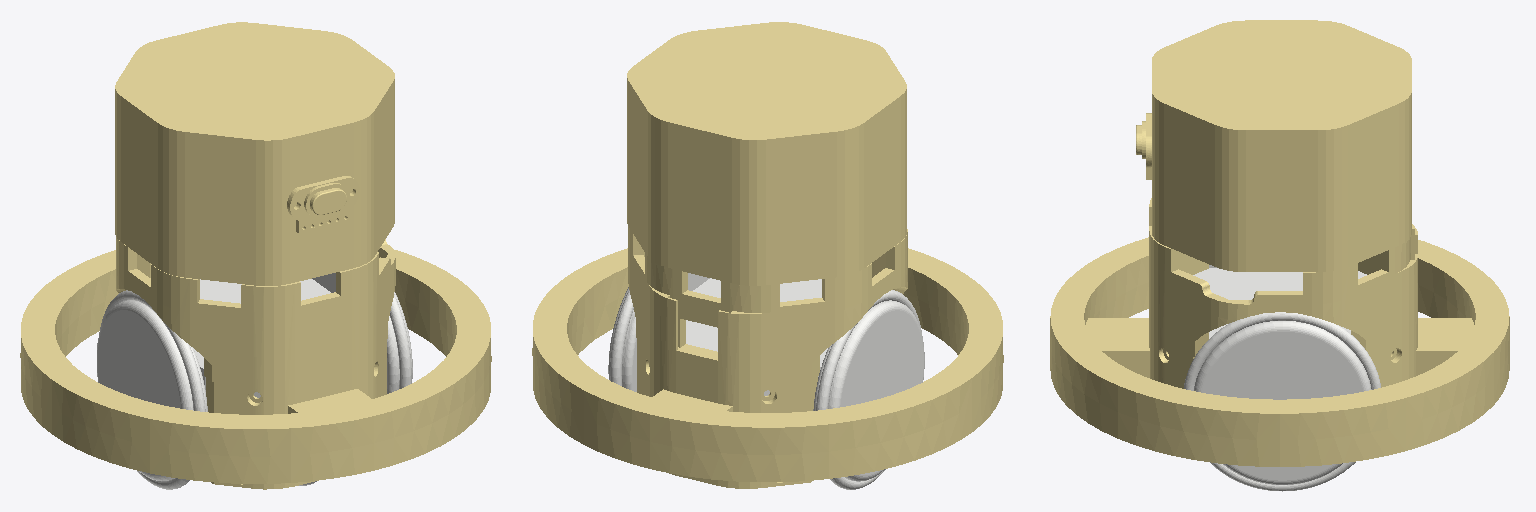
robot.urdf — hero_plus:
<?xml version='1.0' encoding='utf-8'?>
<robot name="hero_plus" version="1.0">
  <joint name="body_link_joint" type="fixed">
    <origin rpy="1.57080 0.00000 0.00000" xyz="0.0001547 -0.0251026 0.0560773" />
    <parent link="base_link" />
    <child link="body_link" />
  </joint>
  <joint name="left_wheel_link_joint" type="continuous">
    <limit effort="0.00000" velocity="0.00000" />
    <origin rpy="0.00000 0.00000 0.00000" xyz="0.02953 0.0003468 0.0141234" />
    <parent link="base_link" />
    <child link="left_wheel_link" />
    <axis xyz="1.00000 0.00000 0.00000" />
  </joint>
  <joint name="right_wheel_link_joint" type="continuous">
    <limit effort="0.00000" velocity="0.00000" />
    <origin rpy="0.00000 0.00000 0.00000" xyz="-0.029401 0.0003468 0.0141633" />
    <parent link="base_link" />
    <child link="right_wheel_link" />
    <axis xyz="1.00000 0.00000 0.00000" />
  </joint>
  <link name="base_link">
    <collision name="base_collision">
      <origin rpy="0.00000 0.00000 0.00000" xyz="-0.0001103 0.0232716 -0.0031983" />
      <geometry>
        <sphere radius="0.0079613" />
      </geometry>
      <surface><friction><ode mu="0.1" mu2="0.1"/></friction></surface>
    </collision>
    <collision name="base_collision.000">
      <origin rpy="0.00000 0.00000 0.00000" xyz="0.0002816 -0.0242143 -0.002371" />
      <geometry>
        <sphere radius="0.0090583" />
      </geometry>
      <surface><friction><ode mu="0.1" mu2="0.1"/></friction></surface>
    </collision>
    <inertial>
      <inertia ixx="8.5e-5" ixy="0" ixz="0" iyy="8.5e-5" iyz="0.00" izz="8.5e-5" />
      <origin rpy="0.00000 0.00000 0.00000" xyz="7.51e-05 -0.0001163 -0.0079272" />
      <mass value="0.200" />
    </inertial>
    <visual name="base">
      <material name="ABS (White)" />
      <origin rpy="0.00000 0.00000 0.00000" xyz="0 -0 0" />
      <geometry>
        <mesh filename="../meshes/dae/base_link.dae" scale="0.01 0.01 0.01" />
      </geometry>
    </visual>
  </link>
  <link name="body_link">
    <collision name="body_collision">
      <origin rpy="1.57080 0.00000 0.00000" xyz="-2.86e-05 -0.0111866 -0.0256706" />
      <geometry>
        <cylinder radius="0.0581853" length="0.0949234" />
      </geometry>
    </collision>
    <inertial>
      <inertia ixx="9.58e-4" ixy="0.00" ixz="0.0" iyy="9.58e-4" iyz="0.0" izz="1.02e-3" />
      <origin rpy="0.00000 0.00000 0.00000" xyz="-0.0001382 -0.0435666 -0.0252577" />
      <mass value="0.600" />
    </inertial>
    <visual name="body">
      <material name="Opaque(244,229,167)" />
      <origin rpy="0.00000 0.00000 0.00000" xyz="0 -0 0" />
      <geometry>
        <mesh filename="../meshes/dae/Body1.dae" scale="0.01 0.01 0.01" />
      </geometry>
    </visual>
  </link>
  <link name="left_wheel_link">
    <collision name="left_wheel_collision">
      <origin rpy="-0.00000 1.57080 0.00000" xyz="0.000109 -3.26e-05 -3.13e-05" />
      <geometry>
        <cylinder radius="0.0255042" length="0.0070011" />
      </geometry>
    </collision>
    <inertial>
      <inertia ixx="1.0e-5" ixy="0.00000" ixz="0.00000" iyy="1.95e-5" iyz="-0.00017" izz="1.0e-5" />
      <origin rpy="0.00000 0.00000 0.00000" xyz="2.18e-05 4.2e-06 8.9e-06" />
      <mass value="0.027100" />
    </inertial>
    <visual name="left_wheel">
      <material name="ABS (White)" />
      <origin rpy="0.00000 0.00000 0.00000" xyz="0 0 0" />
      <geometry>
        <mesh filename="../meshes/dae/left_wheel.dae" scale="0.01 0.01 0.01" />
      </geometry>
    </visual>
  </link>
  <link name="right_wheel_link">
    <collision name="right_wheel_collision">
      <origin rpy="0.00000 1.57080 0.00000" xyz="-0.0001091 -3.26e-05 3.14e-05" />
      <geometry>
        <cylinder radius="0.02549" length="0.0069973" />
      </geometry>
    </collision>
    <inertial>
      <inertia ixx="1.0e-5" ixy="0.00000" ixz="0.00000" iyy="1.95e-5" iyz="-0.00017" izz="1.0e-5" />
      <origin rpy="0.00000 0.00000 0.00000" xyz="-2.18e-05 4.2e-06 -8.9e-06" />
      <mass value="0.027100" />
    </inertial>
    <visual name="right_wheel">
      <material name="ABS (White)" />
      <origin rpy="0.00000 0.00000 0.00000" xyz="0 -0 0" />
      <geometry>
        <mesh filename="../meshes/dae/right_wheel.dae" scale="0.01 0.01 0.01" />
      </geometry>
    </visual>
  </link>
  <material name="ABS (White)">
    <color rgba="0.96471 0.96471 0.95294 1.00000" />
  </material>
  <material name="Opaque(244,229,167)">
    <color rgba="0.95686 0.89804 0.65490 1.00000" />
  </material>
</robot>

--- Render facts (derived) ---
The picture shows the robot from 3 angles, left to right: view 1: azimuth 30°, elevation 25°; view 2: azimuth 150°, elevation 25°; view 3: azimuth 270°, elevation 25°; orthographic projection.
Model hero_plus with 4 links and 3 joints (2 continuous, 1 fixed), rooted at base_link, posed all joints at 0.
Links seen in each view (by area): view 1: body_link, right_wheel_link, left_wheel_link, base_link; view 2: body_link, right_wheel_link, left_wheel_link, base_link; view 3: body_link, left_wheel_link, base_link.
Boxes of the visible links, left/top/right/bottom form: body_link: left=20, top=22, right=491, bottom=489; right_wheel_link: left=97, top=290, right=207, bottom=489; left_wheel_link: left=312, top=273, right=412, bottom=393; base_link: left=193, top=279, right=330, bottom=485; body_link: left=532, top=22, right=1003, bottom=488; right_wheel_link: left=813, top=290, right=924, bottom=489; left_wheel_link: left=608, top=273, right=709, bottom=391; base_link: left=686, top=278, right=827, bottom=395; body_link: left=1050, top=20, right=1509, bottom=466; left_wheel_link: left=1184, top=312, right=1380, bottom=491; base_link: left=1193, top=268, right=1366, bottom=338.
Size in the robot's own frame: 0.1172 by 0.1172 by 0.1033 metres.
4 mesh visuals loaded from 4 distinct referenced files (4 Collada DAE).
